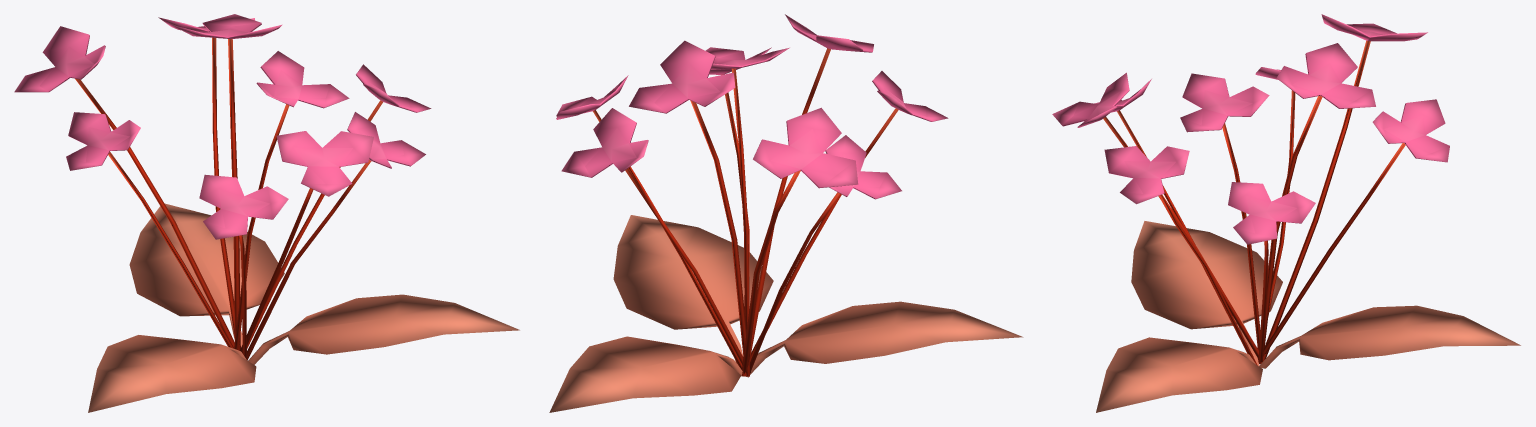
3 renders of one model, left to right at view 1: azimuth 30°, elevation 25°; view 2: azimuth 150°, elevation 25°; view 3: azimuth 270°, elevation 25°, orthographic. The views are drawn at different scales.
Parts seen in each view (by area): view 1: fp16; view 2: fp16; view 3: fp16.
Boxes of the visible parts, left/top/right/bottom form: fp16: left=14, top=14, right=519, bottom=412; fp16: left=549, top=14, right=1023, bottom=412; fp16: left=1052, top=14, right=1520, bottom=412.
Size of the model in its own units: 104 by 78.66 by 107.
